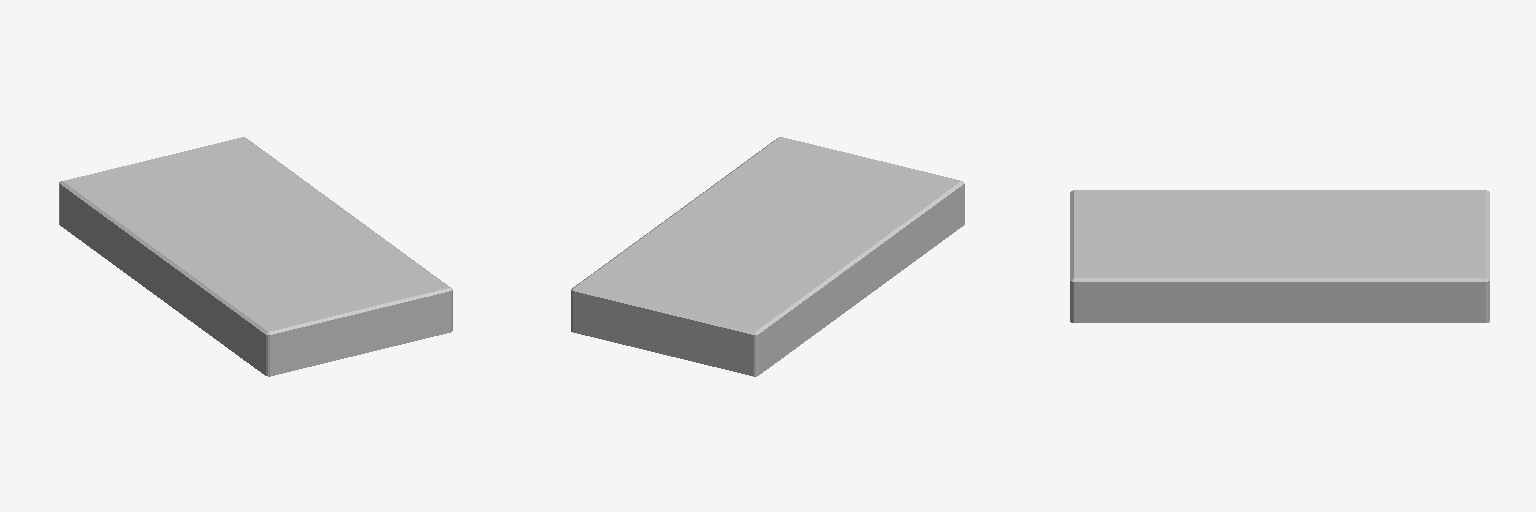
The model's file is bedMattress.obj.
3 renders of one model, left to right at view 1: azimuth 30°, elevation 25°; view 2: azimuth 150°, elevation 25°; view 3: azimuth 270°, elevation 25°, orthographic.
Visible parts, largest first — view 1: dusek; view 2: dusek; view 3: dusek.
Boxes of the visible parts, x1=… form: dusek: x1=59, y1=137, x2=452, y2=376; dusek: x1=571, y1=137, x2=964, y2=376; dusek: x1=1070, y1=190, x2=1489, y2=322.
Bounding box in the file's own units: 199 × 44.08 × 386.